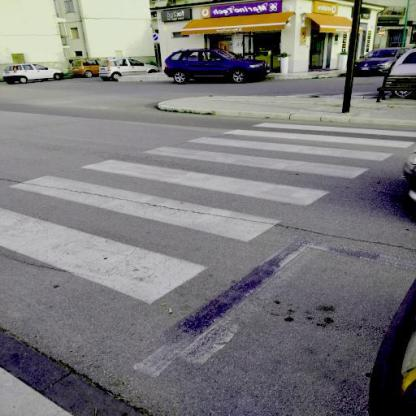crosswalk: (0, 156, 344, 246)
